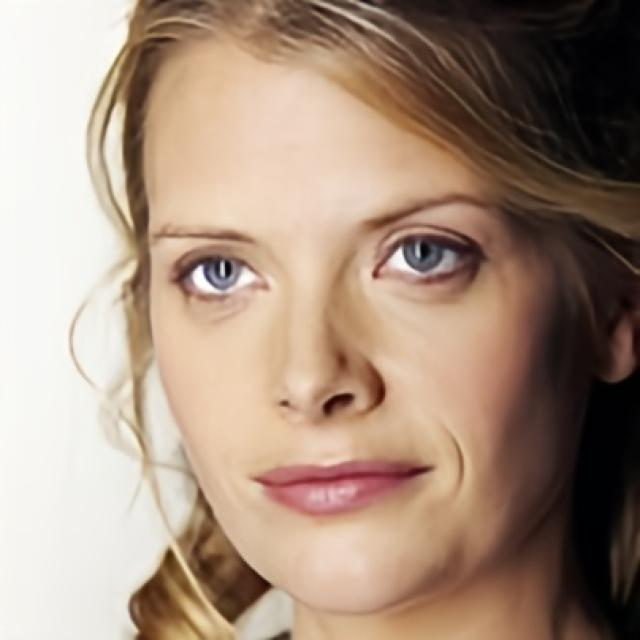content: (140, 21, 592, 616)
